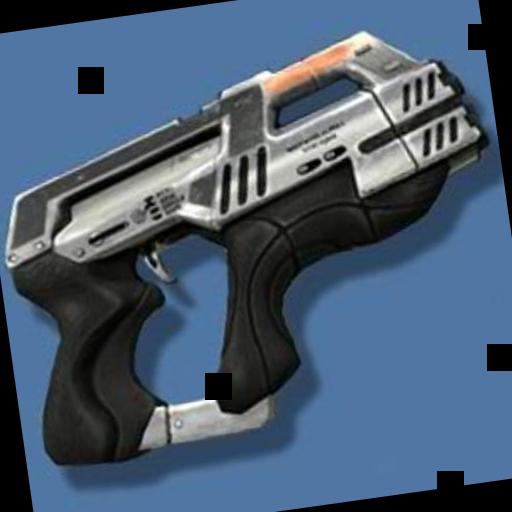Handgun: (4, 18, 507, 474)
